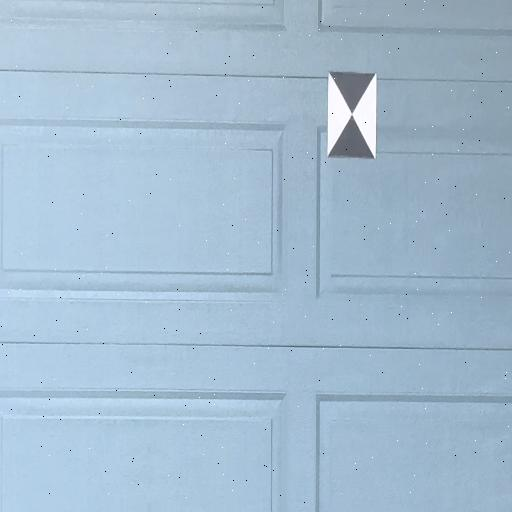target: (329, 72, 376, 158)
